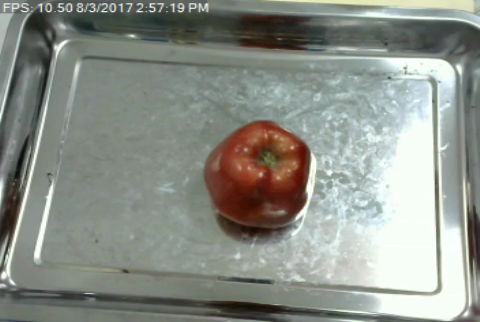Apple: (199, 118, 319, 230)
